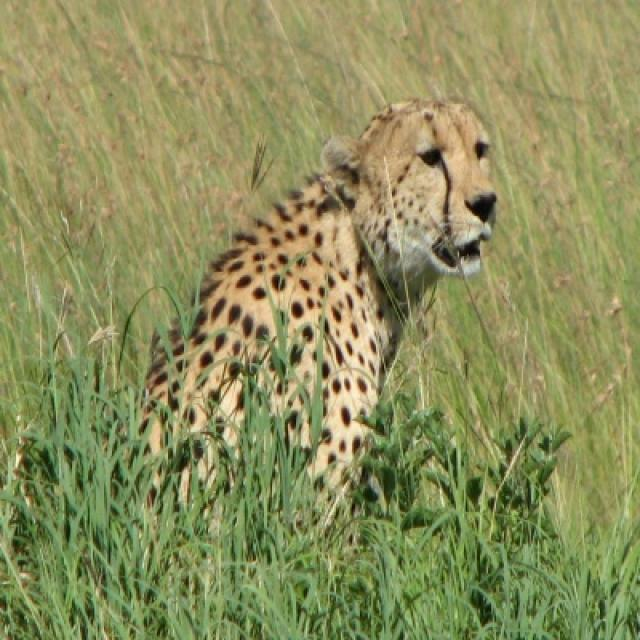Cheetah: (108, 97, 501, 535)
